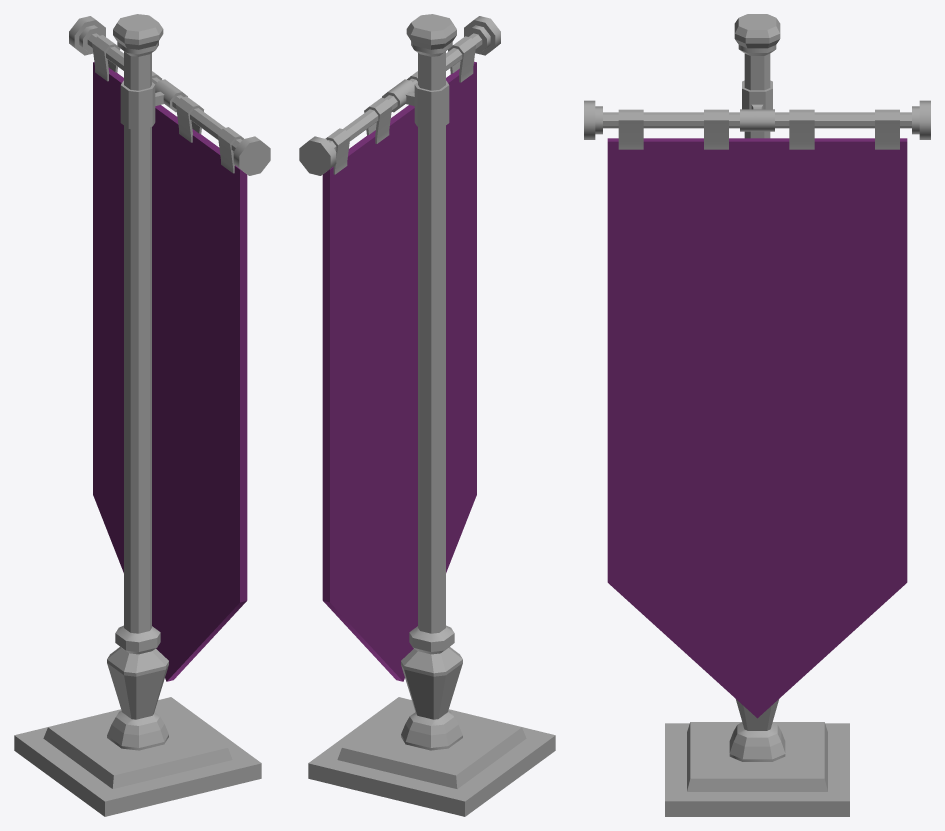
Rendered from Flag.fbx.
3 renders of one model, left to right at view 1: azimuth 30°, elevation 25°; view 2: azimuth 150°, elevation 25°; view 3: azimuth 270°, elevation 25°, orthographic.
Parts seen in each view (by area): view 1: polySurface1, polySurface2, polySurface3, polySurface4, polySurface7, polySurface9, polySurface11, polySurface8; view 2: polySurface1, polySurface2, polySurface3, polySurface4, polySurface7, polySurface10, polySurface8, polySurface11; view 3: polySurface1, polySurface3, polySurface2, polySurface4, polySurface10, polySurface8, polySurface9, polySurface11, polySurface5, polySurface7.
Part boxes in pixels (x1,y1,x2,y2): polySurface1: (93, 62, 247, 681); polySurface2: (107, 14, 168, 750); polySurface3: (14, 697, 261, 816); polySurface4: (69, 16, 270, 175); polySurface7: (120, 80, 155, 129); polySurface9: (176, 96, 203, 142); polySurface11: (92, 35, 120, 81); polySurface8: (217, 127, 243, 173); polySurface1: (322, 61, 476, 681); polySurface2: (401, 14, 462, 750); polySurface3: (308, 697, 555, 816); polySurface4: (299, 16, 500, 175); polySurface7: (414, 80, 449, 129); polySurface10: (364, 97, 392, 143); polySurface8: (448, 36, 476, 82); polySurface11: (325, 128, 350, 174); polySurface1: (607, 138, 907, 718); polySurface3: (665, 722, 849, 816); polySurface2: (729, 14, 785, 761); polySurface4: (584, 100, 930, 139); polySurface10: (789, 109, 814, 149); polySurface8: (618, 109, 643, 149); polySurface9: (704, 109, 728, 149); polySurface11: (875, 109, 899, 149); polySurface5: (740, 109, 774, 131); polySurface7: (742, 80, 772, 109).
Bounding box in the file's own units: 43.88 × 198 × 82.42.
